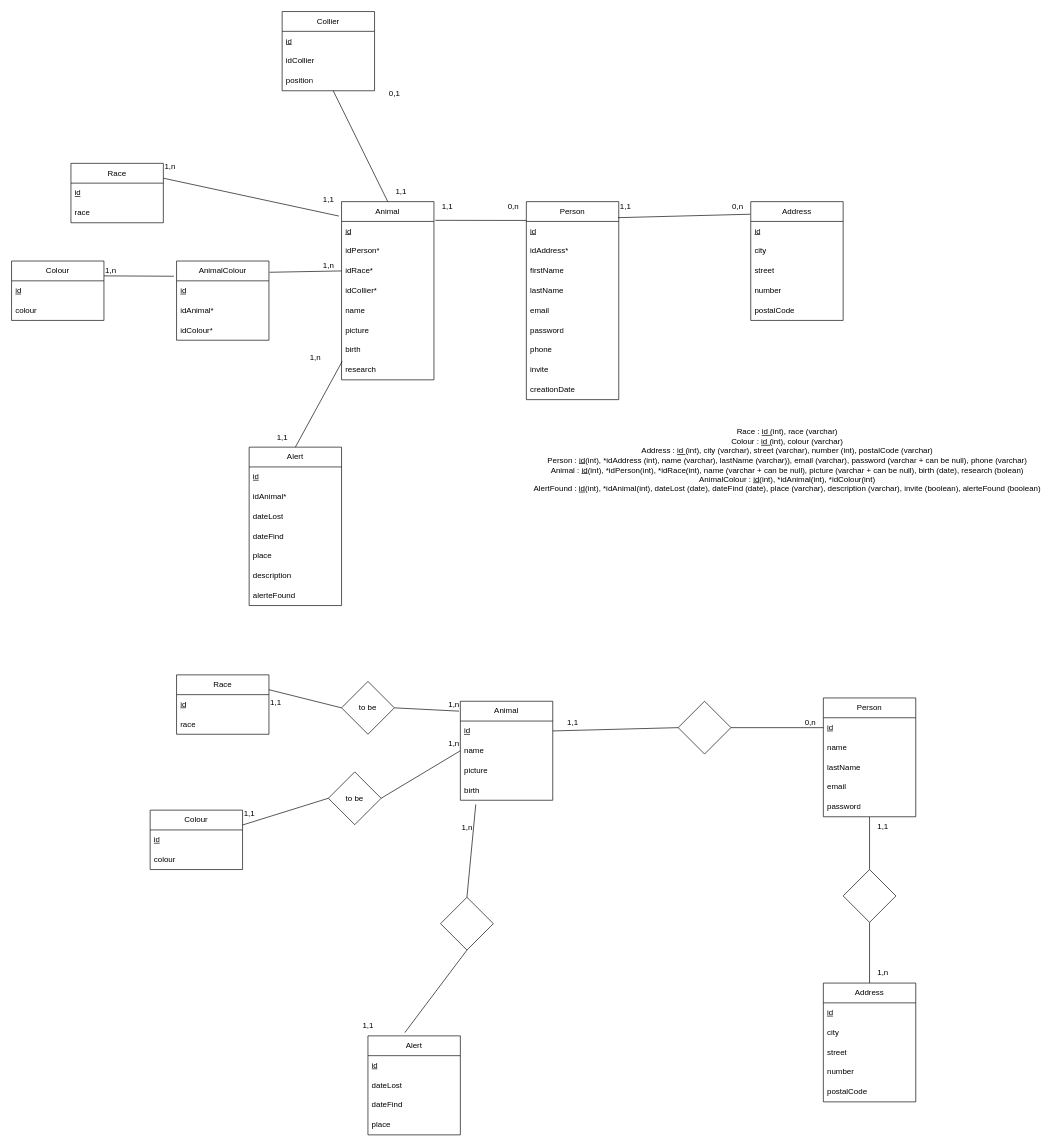
This 1059x1146 diagram has some shape labels left out. The shapes that lost their labels are listed below. From the top down, each one's centre as x and y in pixels, then its label:
pixel 704 727: to possess
pixel 869 895: to have
pixel 466 923: emit
